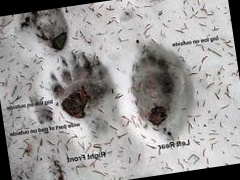rat: (112, 41, 206, 135), (31, 99, 114, 167)
